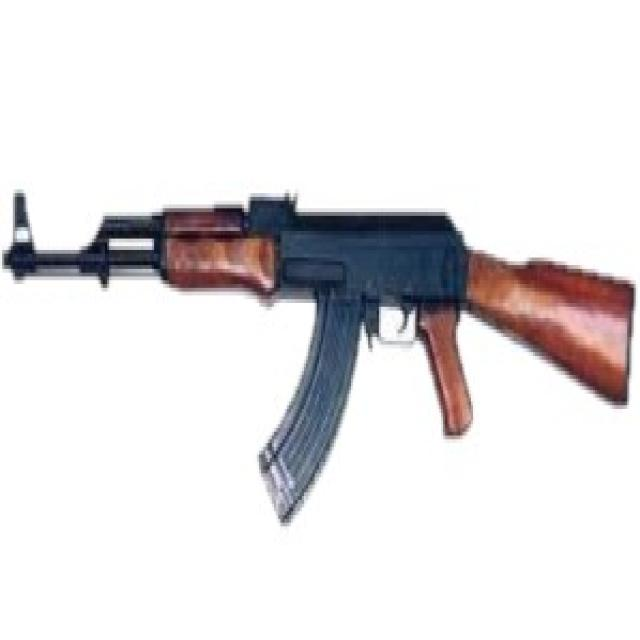rifle: (2, 170, 640, 541)
